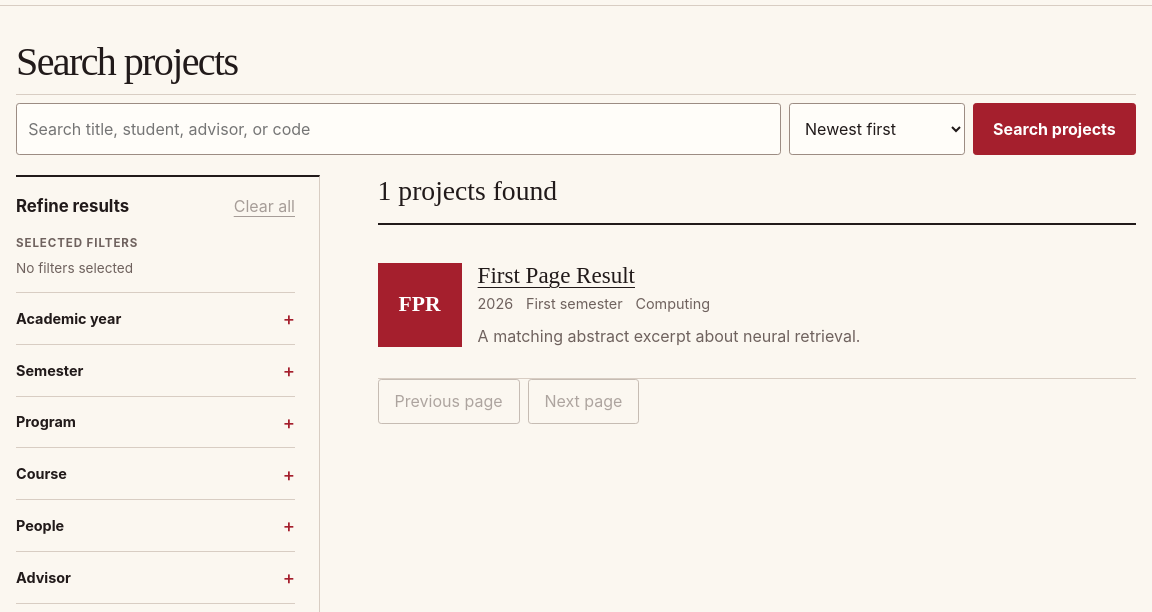
Scenario: public search paging › shows named participant facets and Semester counts while hiding paused dimensions
Expected: the heading "First Page Result" is shown, top-left (478, 262), bottom-right (635, 288)
Click the heading "Semester" at (50, 370), box top-left (16, 362), bottom-right (83, 379)
(page scrolled)
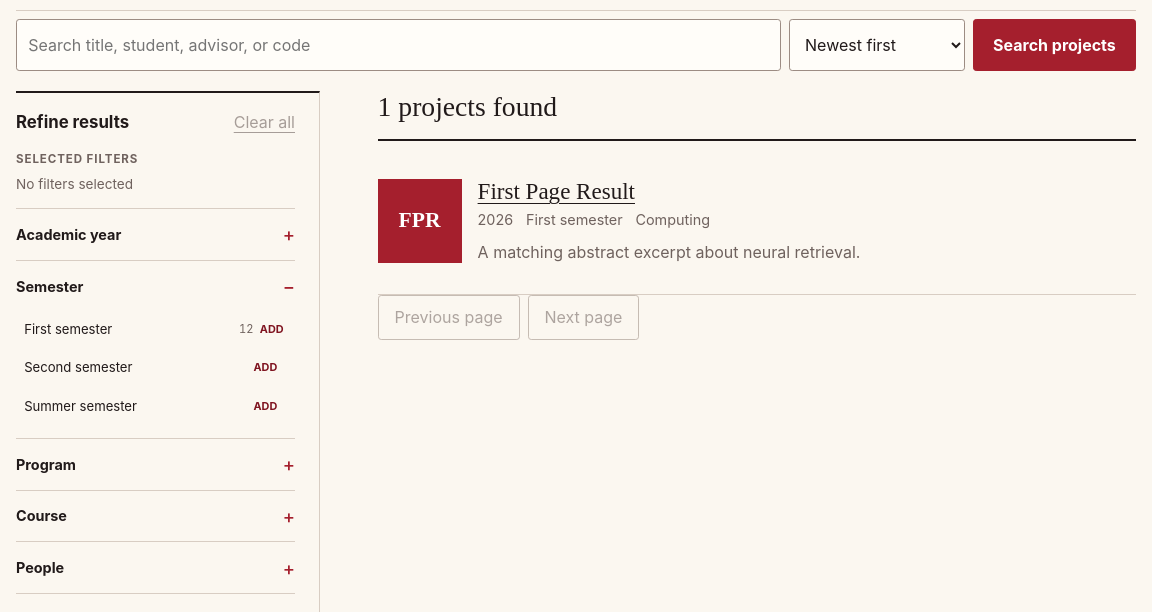
Expected: the button "First semester 12 Add" is shown, top-left (16, 312), bottom-right (292, 346)
Click the heading "People" at (40, 568), box top-left (16, 559), bottom-right (64, 576)
(page scrolled)
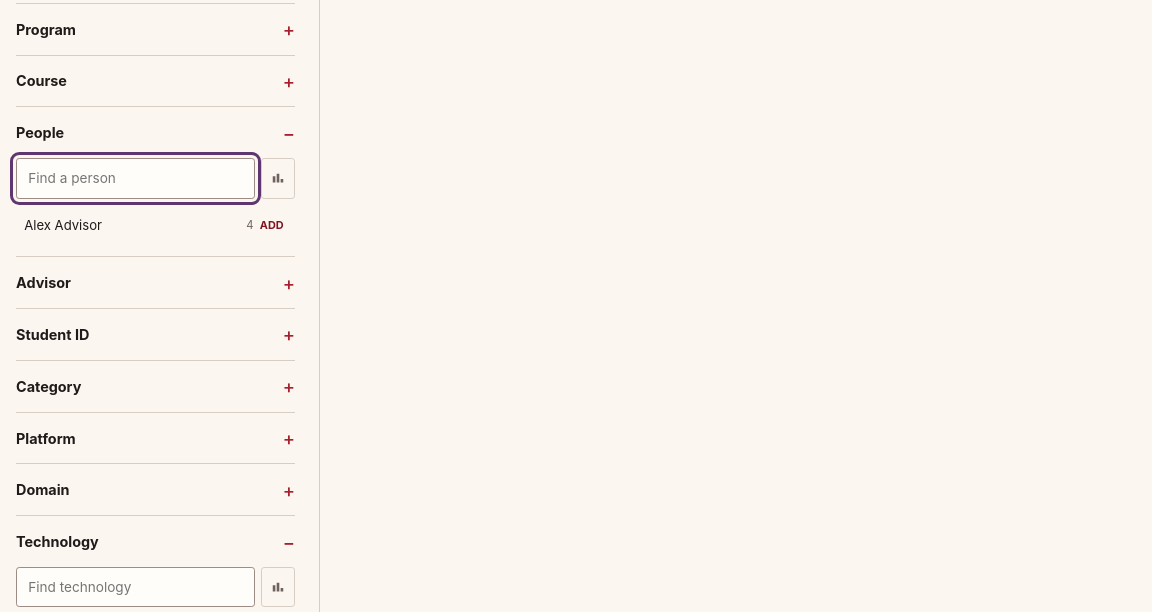
Expected: the button "Alex Advisor 4 Add" is shown, top-left (16, 207), bottom-right (292, 242)
Click the heading "Advisor" at (43, 283), box top-left (16, 274), bottom-right (71, 291)
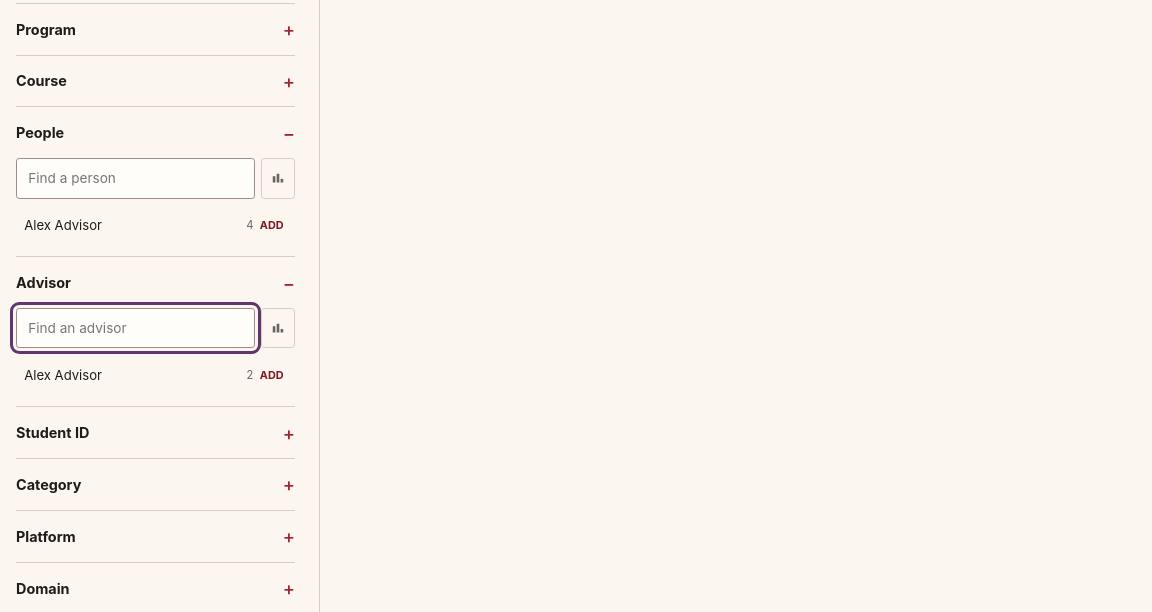
Expected: the button "Alex Advisor 2 Add" is shown, top-left (16, 357), bottom-right (292, 392)
